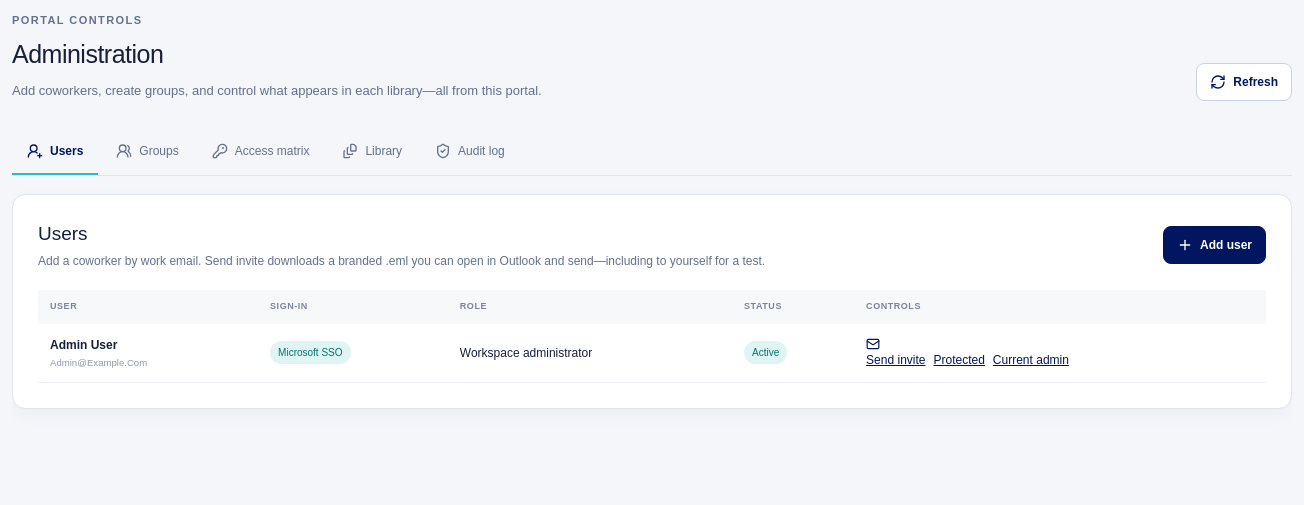
Test: AdminPage access changes › force-sends an invite to an existing active administrator, including the signed-in user
Expected: the text "Admin User" is shown, [50, 338, 117, 352]
Click the button with aria-label "Send invite to Admin User": coordinates (896, 353) [866, 337, 926, 369]
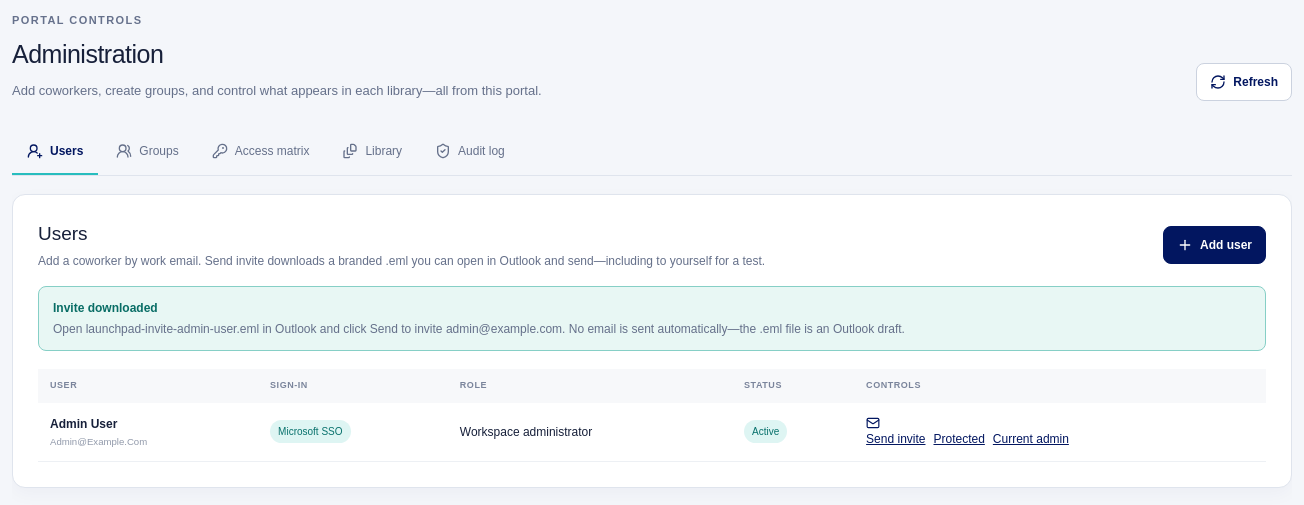
Expected: the text "Invite downloaded" is shown, [53, 301, 158, 315]
